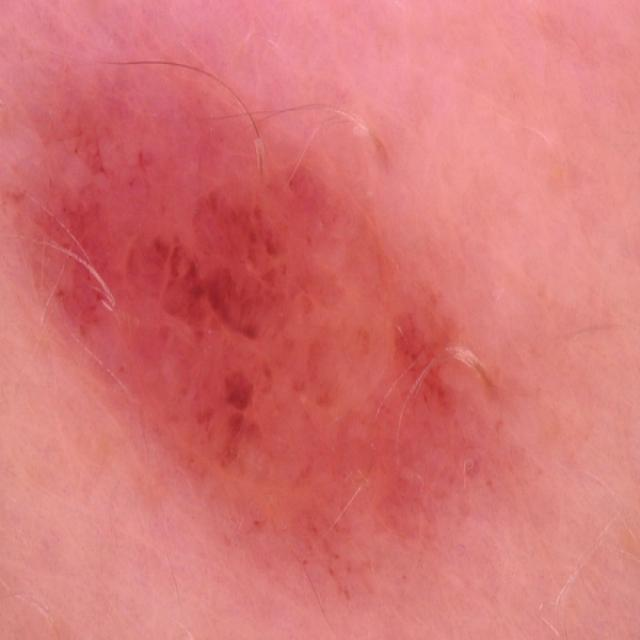NV: (0, 46, 517, 603)
